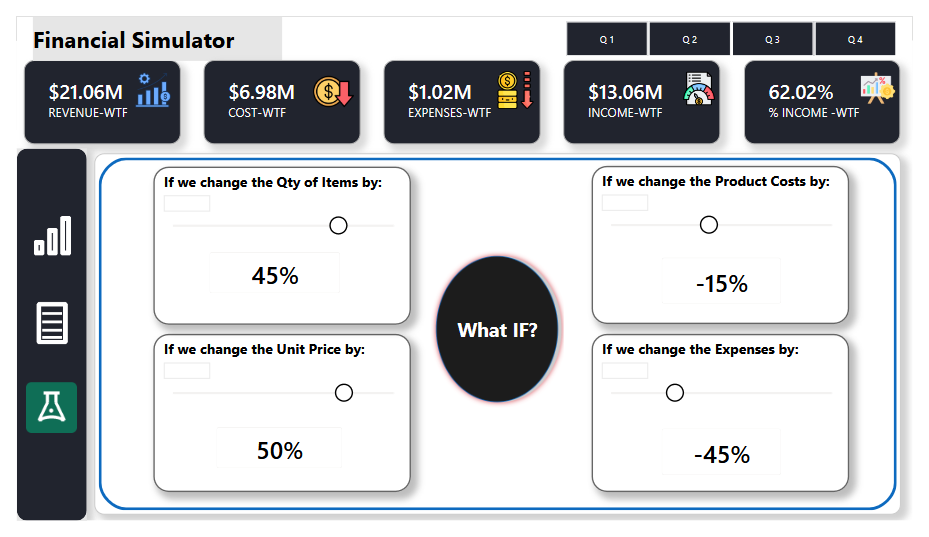

What the dashboard file says about the page in this screenshot:
{"tool":"powerbi","page":{"name":"Financial Simulator","canvas":[1280,720],"ordinal":4},"visuals":[{"type":"cardVisual","fields":{"Data":["WTF-CALCULATIONS.WTF-REVENUE"]},"box":[10.4,62.2,223.7,120],"z":0},{"type":"shape","box":[0,188.3,100,531.7],"z":1000},{"type":"shape","box":[23,0,355.7,63.4],"z":2000},{"type":"image","box":[7.9,521.8,82.7,72.9],"z":3000},{"type":"image","box":[6.7,260,85,100],"z":4000},{"type":"cardVisual","fields":{"Data":["WTF-COST.Cost-wtf"]},"box":[267.4,62.2,223.7,120],"z":5000},{"type":"cardVisual","fields":{"Data":["WTF-EXPENSES.Expensess-wtf"]},"box":[524.4,62.2,223.7,120],"z":6000},{"type":"cardVisual","fields":{"Data":["WTF-CALCULATIONS.operation incom-wtf"]},"box":[781.5,62.2,223.7,120],"z":7000},{"type":"cardVisual","fields":{"Data":["WTF-CALCULATIONS.% OPERATION INCOME -WTF"]},"box":[1038.5,62.2,223.7,120],"z":8000},{"type":"image","box":[164,77.2,60.5,54.7],"z":9000},{"type":"image","box":[422.9,77.2,59,59],"z":10000},{"type":"image","box":[685,77.2,54.7,54.7],"z":11000},{"type":"image","box":[1199.5,76.3,59,51.8],"z":12000},{"type":"shape","box":[111,194.6,1152,515.9],"z":13000},{"type":"image","box":[943.2,77.8,61.9,49],"z":14000},{"type":"slicer","fields":{"Values":["CALENDER.QTY"]},"box":[758.9,0,521.3,63.4],"z":15000},{"type":"shape","box":[590.8,332.8,191,226.5],"z":16000},{"type":"slicer","fields":{"Values":["WTF-PRICE.WTF-PRICE"]},"box":[195,452.9,368,226],"z":17000},{"type":"cardVisual","fields":{"Data":["WTF-PRICE.WTF-PRICE Value"]},"box":[267.8,569.1,214.1,92.4],"z":18000},{"type":"slicer","fields":{"Values":["WTF-COST.WTF-COST"]},"box":[821.2,212.7,368.2,226.5],"z":19000},{"type":"cardVisual","fields":{"Data":["WTF-COST.WTF-COST Value"]},"box":[903.9,326.9,204.8,100.4],"z":20000},{"type":"slicer","fields":{"Values":["WTF-QTY.WTF-QTY"]},"box":[194.6,213.9,368,226],"z":21000},{"type":"cardVisual","fields":{"Data":["WTF-QTY.WTF-QTY Value"]},"box":[258,319,220.6,92.6],"z":22000},{"type":"slicer","fields":{"Values":["WTF-EXPENSES.WTF-EXPENSES"]},"box":[821.2,452.9,368.2,226],"z":23000},{"type":"cardVisual","fields":{"Data":["WTF-EXPENSES.WTF-EXPENSES Value"]},"box":[903.9,571.1,204.8,100.4],"z":24000},{"type":"image","box":[9.8,391.9,80,91.7],"z":25000}]}

Visuals, with their boxes in screenshot pixels (x1, y1, x2, y2), scaled from the page's 1280x720 canvas onto the 929x537 screenshot:
cardVisual - WTF-CALCULATIONS.WTF-REVENUE: 8 46 170 136
shape: 0 140 73 536
shape: 17 0 275 47
image: 6 389 66 444
image: 5 194 67 268
cardVisual - WTF-COST.Cost-wtf: 194 46 356 136
cardVisual - WTF-EXPENSES.Expensess-wtf: 381 46 543 136
cardVisual - WTF-CALCULATIONS.operation incom-wtf: 567 46 730 136
cardVisual - WTF-CALCULATIONS.% OPERATION INCOME -WTF: 754 46 916 136
image: 119 58 163 98
image: 307 58 350 102
image: 497 58 537 98
image: 871 57 913 96
shape: 81 145 917 530
image: 685 58 729 95
slicer - CALENDER.QTY: 551 0 928 47
shape: 429 248 567 417
slicer - WTF-PRICE.WTF-PRICE: 142 338 409 506
cardVisual - WTF-PRICE.WTF-PRICE Value: 194 424 350 493
slicer - WTF-COST.WTF-COST: 596 159 863 328
cardVisual - WTF-COST.WTF-COST Value: 656 244 805 319
slicer - WTF-QTY.WTF-QTY: 141 160 408 328
cardVisual - WTF-QTY.WTF-QTY Value: 187 238 347 307
slicer - WTF-EXPENSES.WTF-EXPENSES: 596 338 863 506
cardVisual - WTF-EXPENSES.WTF-EXPENSES Value: 656 426 805 501
image: 7 292 65 361
